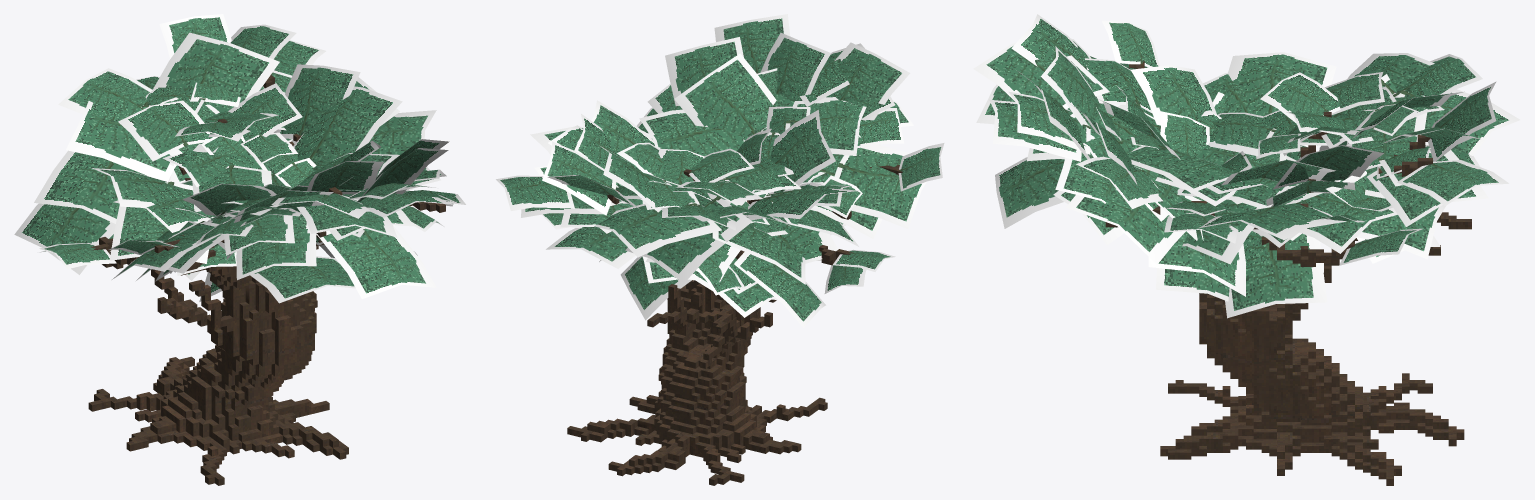
File: GrandMagicalTree.fbx
3 views of the same model, side by side, from view 1: azimuth 30°, elevation 25°; view 2: azimuth 150°, elevation 25°; view 3: azimuth 270°, elevation 25° (orthographic). The views are drawn at different scales.
Parts seen in each view (by area): view 1: Leaves_2, Leaves, GrandMagicalTree; view 2: Leaves_2, Leaves, GrandMagicalTree; view 3: Leaves_2, Leaves, GrandMagicalTree.
Boxes of the visible parts, box(x1,y1,x2,y2) form: Leaves_2: box(14, 14, 436, 303); Leaves: box(108, 64, 465, 301); GrandMagicalTree: box(88, 74, 445, 485); Leaves_2: box(496, 100, 895, 327); Leaves: box(574, 14, 944, 263); GrandMagicalTree: box(567, 104, 902, 485); Leaves_2: box(1182, 52, 1519, 318); Leaves: box(973, 14, 1383, 301); GrandMagicalTree: box(1105, 61, 1471, 485).
Bounding box in the file's own units: 6.31 × 5.4 × 7.02.
Materials: 2 (2 with a texture image).
